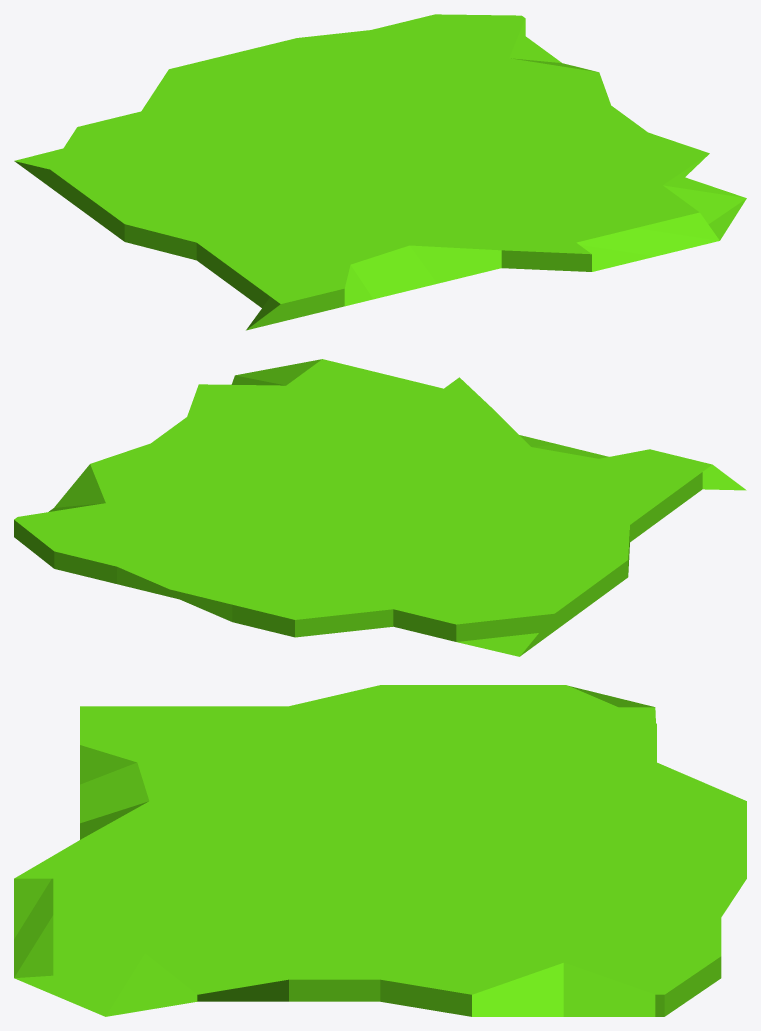
Rendered from green_b_n.glb.
3 views of the same model, one above another, from view 1: azimuth 30°, elevation 25°; view 2: azimuth 150°, elevation 25°; view 3: azimuth 270°, elevation 25° (orthographic). The views are drawn at different scales.
Visible parts, largest first — view 1: Cube; view 2: Cube; view 3: Cube.
Part boxes in pixels (bbox=[...]): Cube: bbox=[14, 14, 746, 330]; Cube: bbox=[14, 359, 746, 656]; Cube: bbox=[14, 685, 746, 1016].
Bounding box in the file's own units: 6 × 0.2 × 6.
